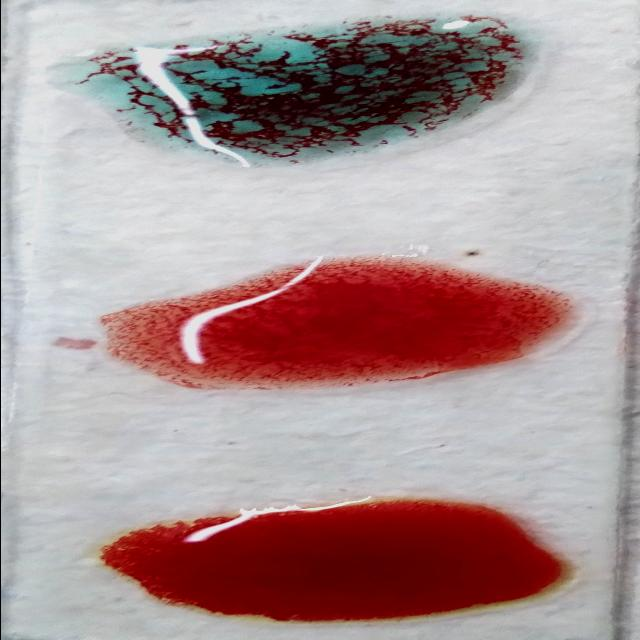A: (49, 22, 529, 162)
D: (103, 265, 580, 376)
